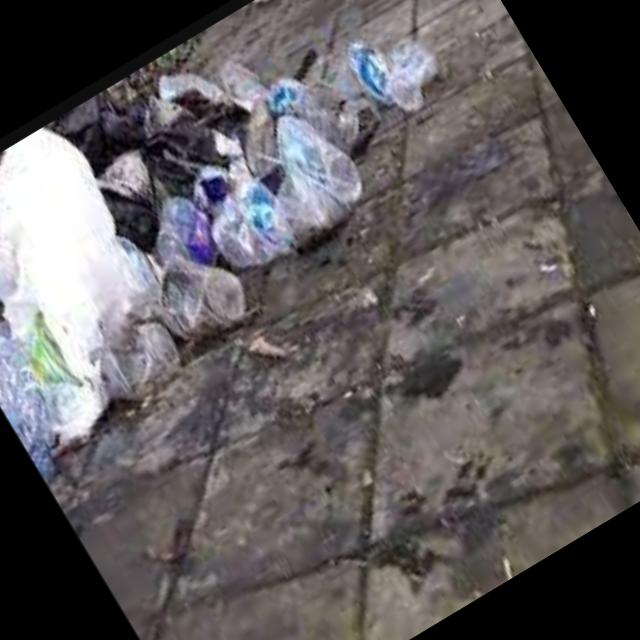GelasPlastik: (254, 93, 374, 229), (141, 239, 255, 353), (198, 167, 302, 276), (370, 30, 460, 126)
